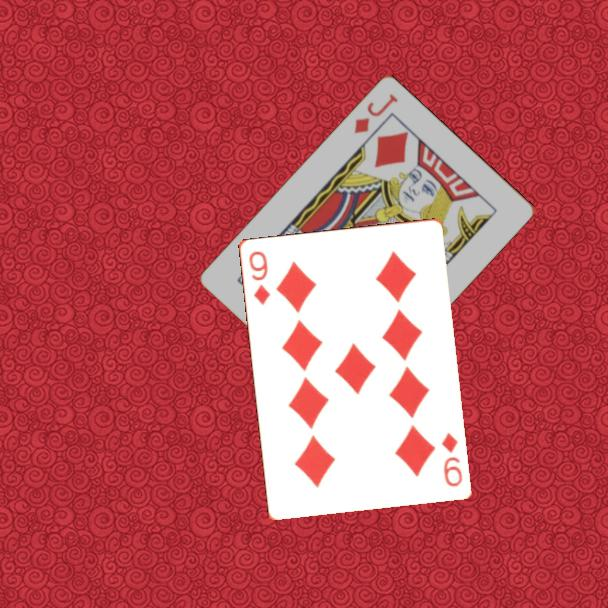d09: (245, 247, 273, 307), (438, 429, 465, 489)
d11: (350, 90, 401, 136)
